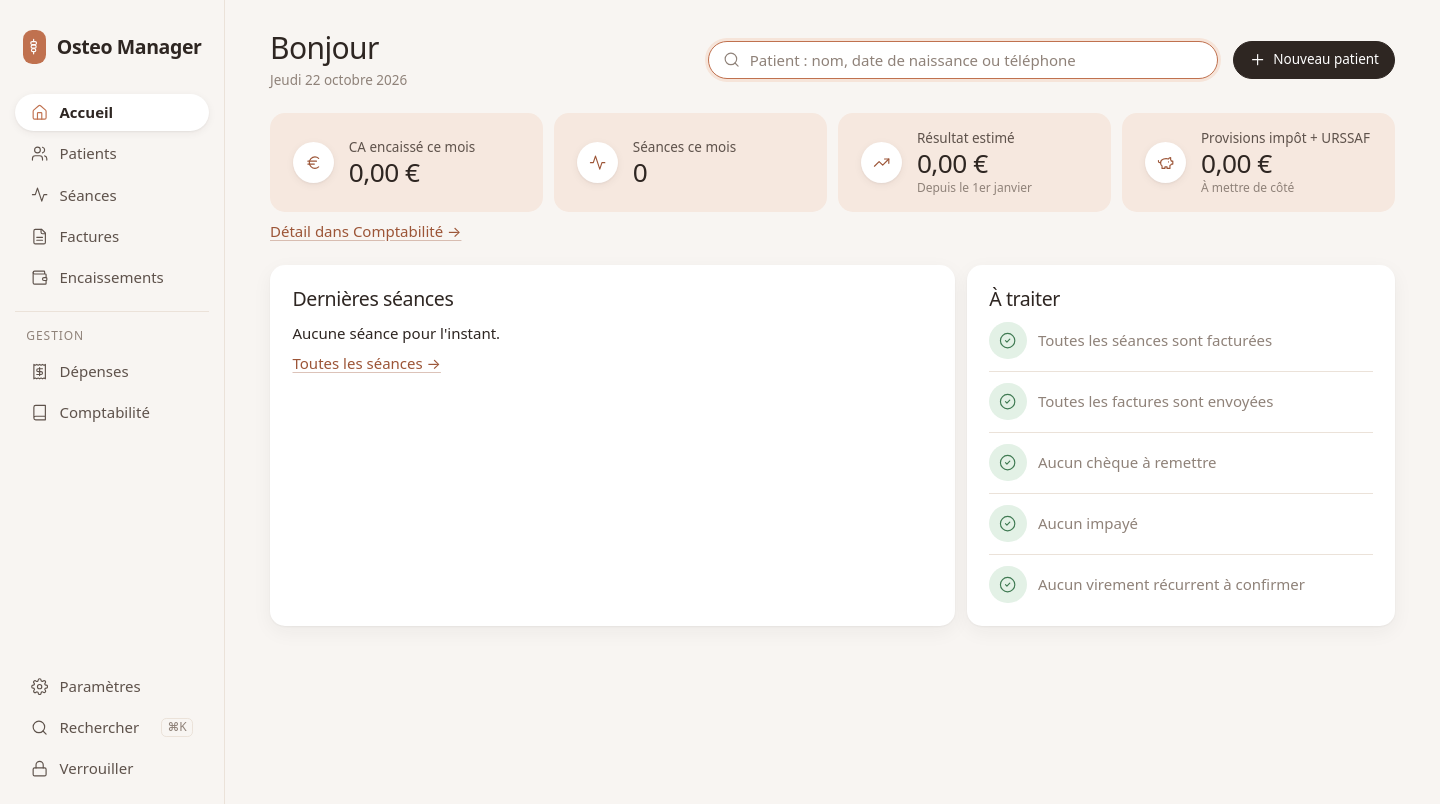
ajoute puis retire un logo
Click the button "Paramètres" at (112, 686), box [15,668,209,705]
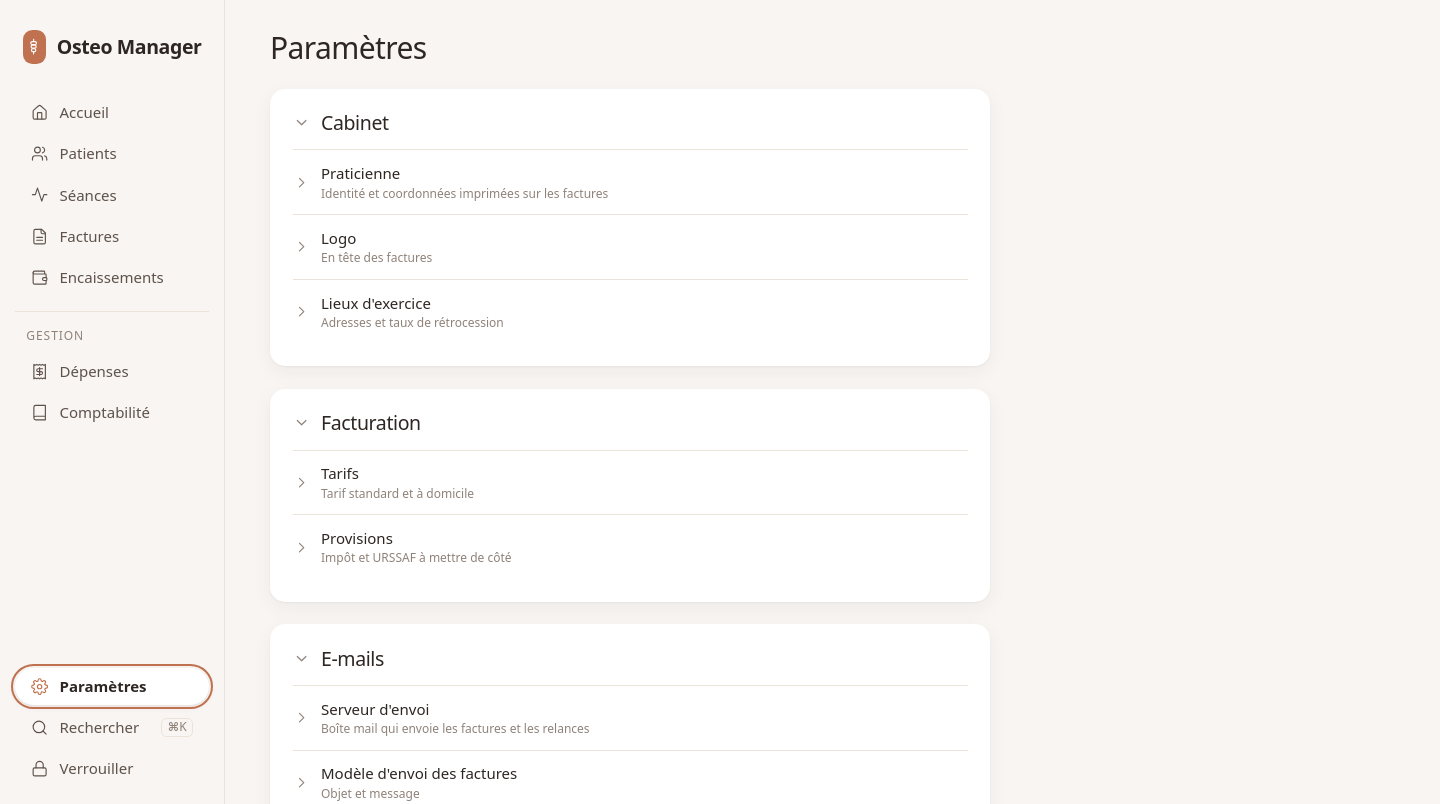
Click the heading "Logo" at (339, 238), box [321,228,356,248]
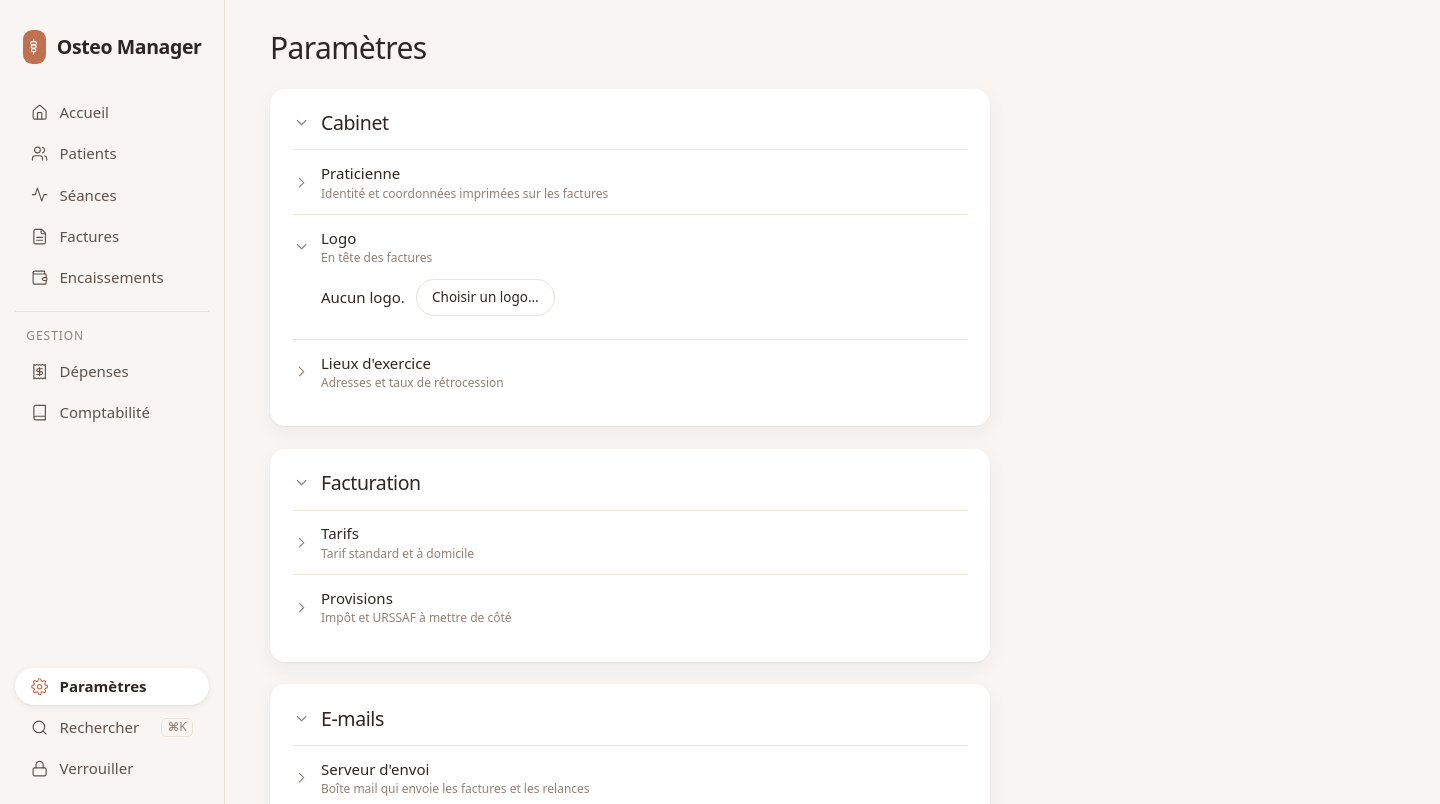
Click the button "Choisir un logo…" at (485, 298), box [416,279,555,316]
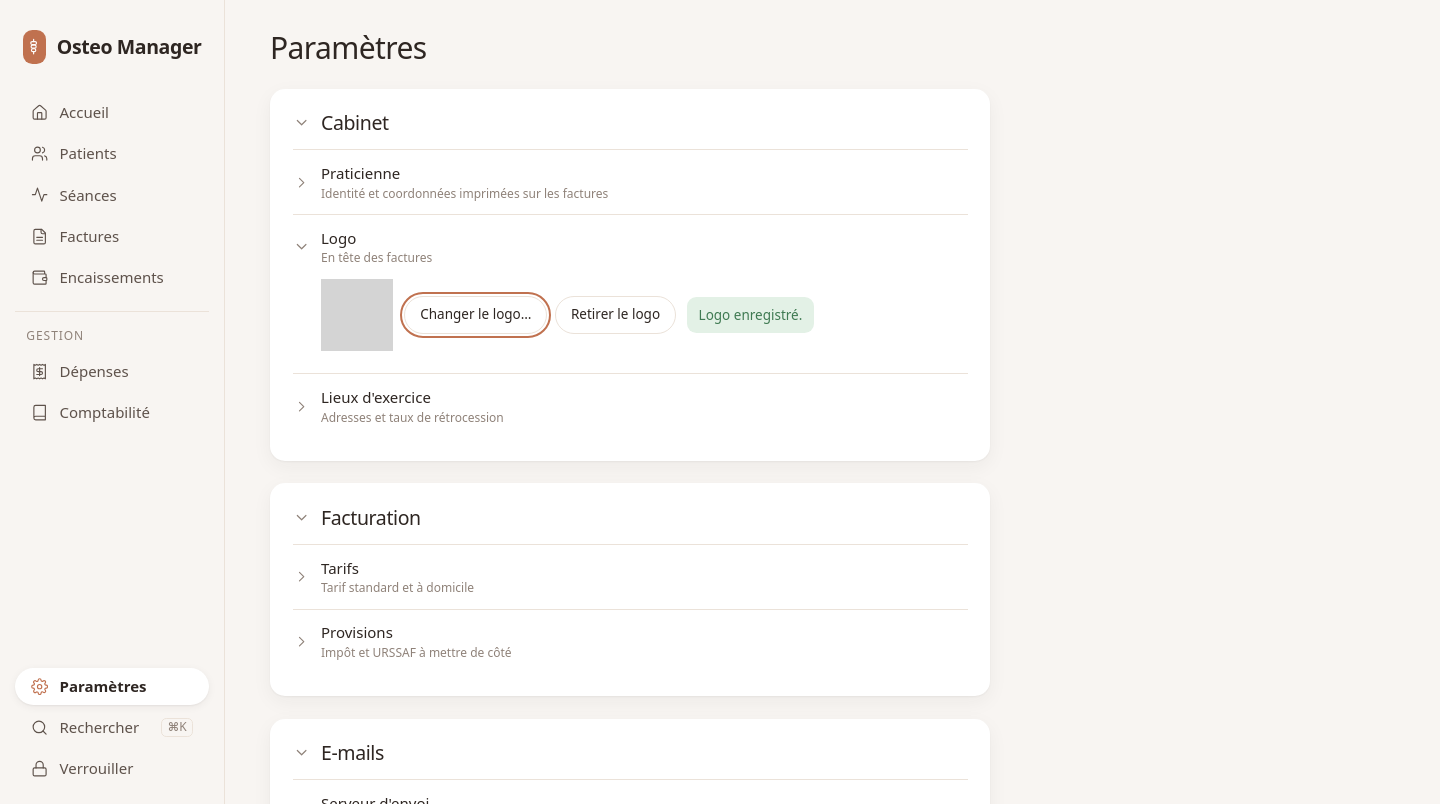
Click the button "Retirer le logo" at (616, 315), box [555,296,676,334]
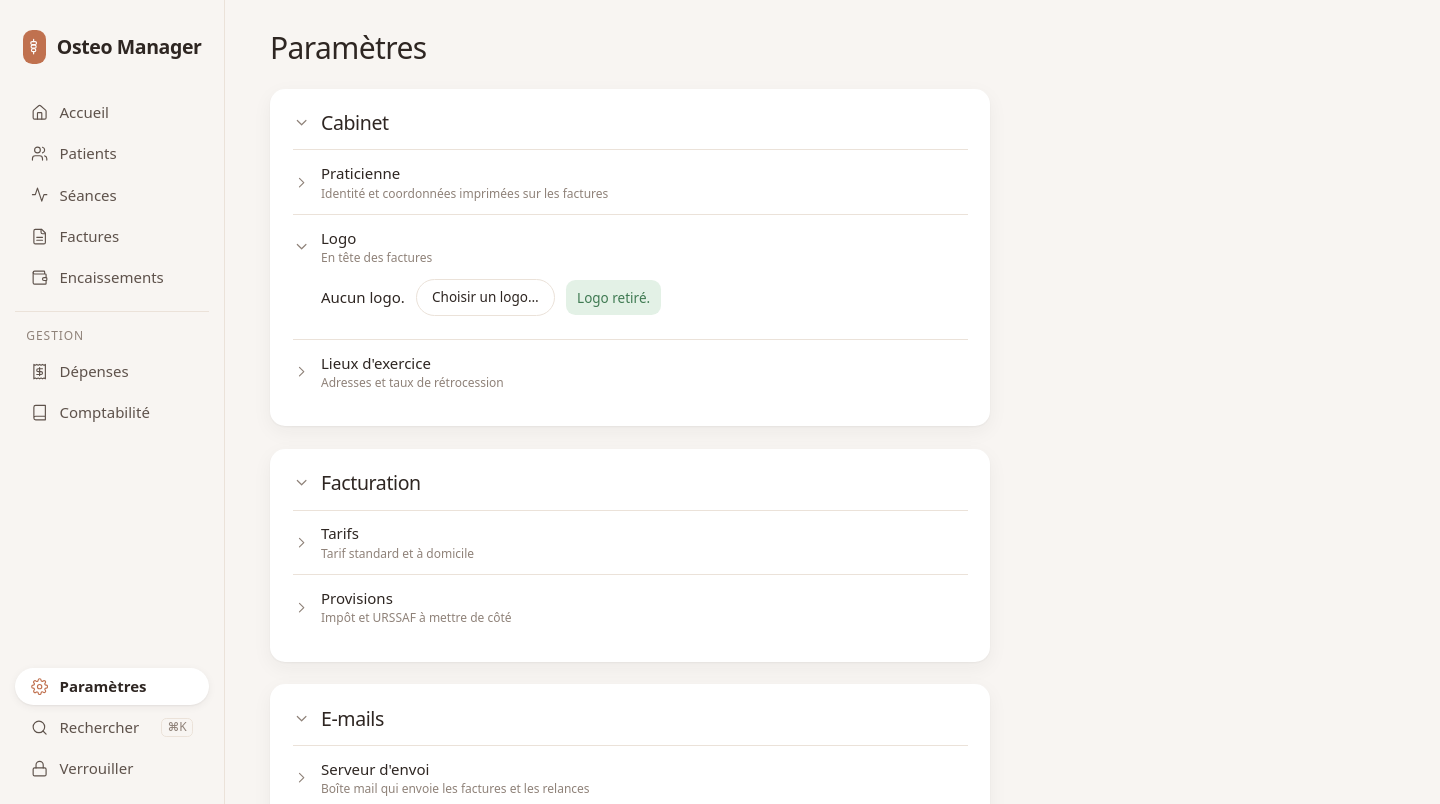
Now the text "Aucun logo." is shown, box [321,286,405,309]
